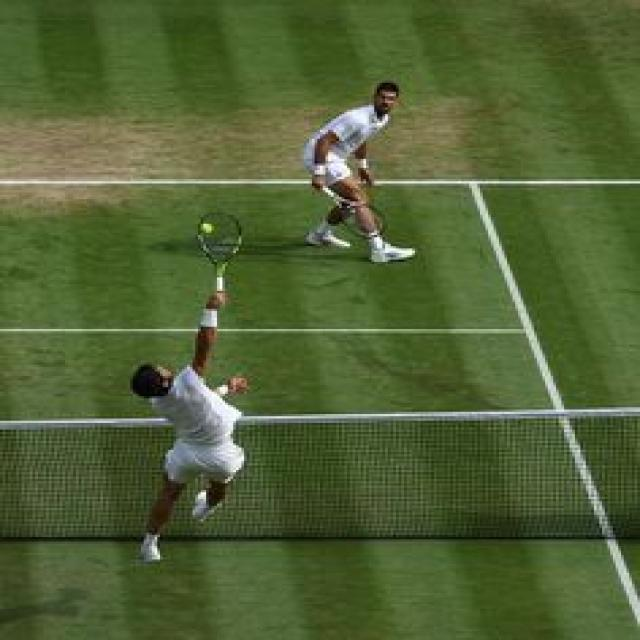tennis: (198, 218, 216, 232)
